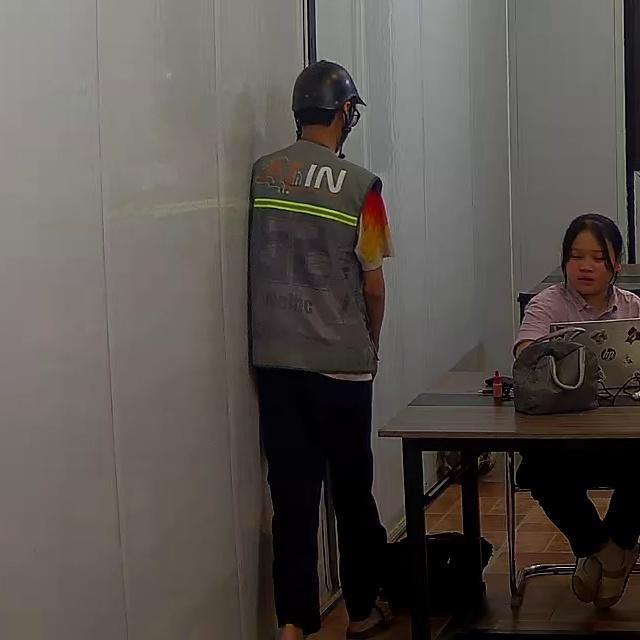helmet: (290, 59, 367, 148)
no_helmet: (560, 213, 623, 285)
none: (513, 280, 640, 357)
vest: (248, 152, 376, 369)
